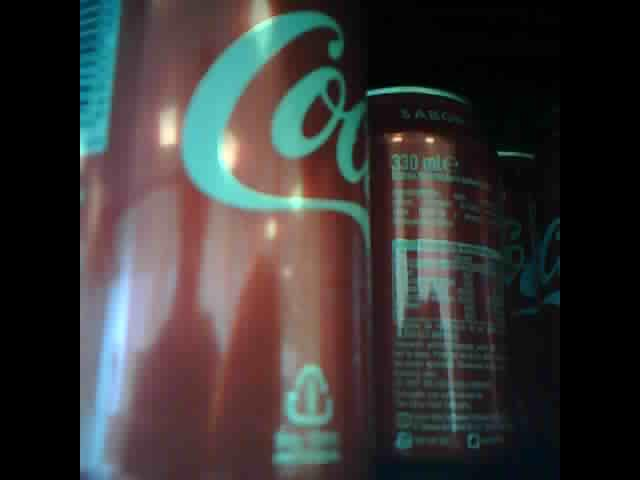coca cola: (80, 9, 365, 478), (366, 81, 507, 454), (493, 140, 535, 438)
